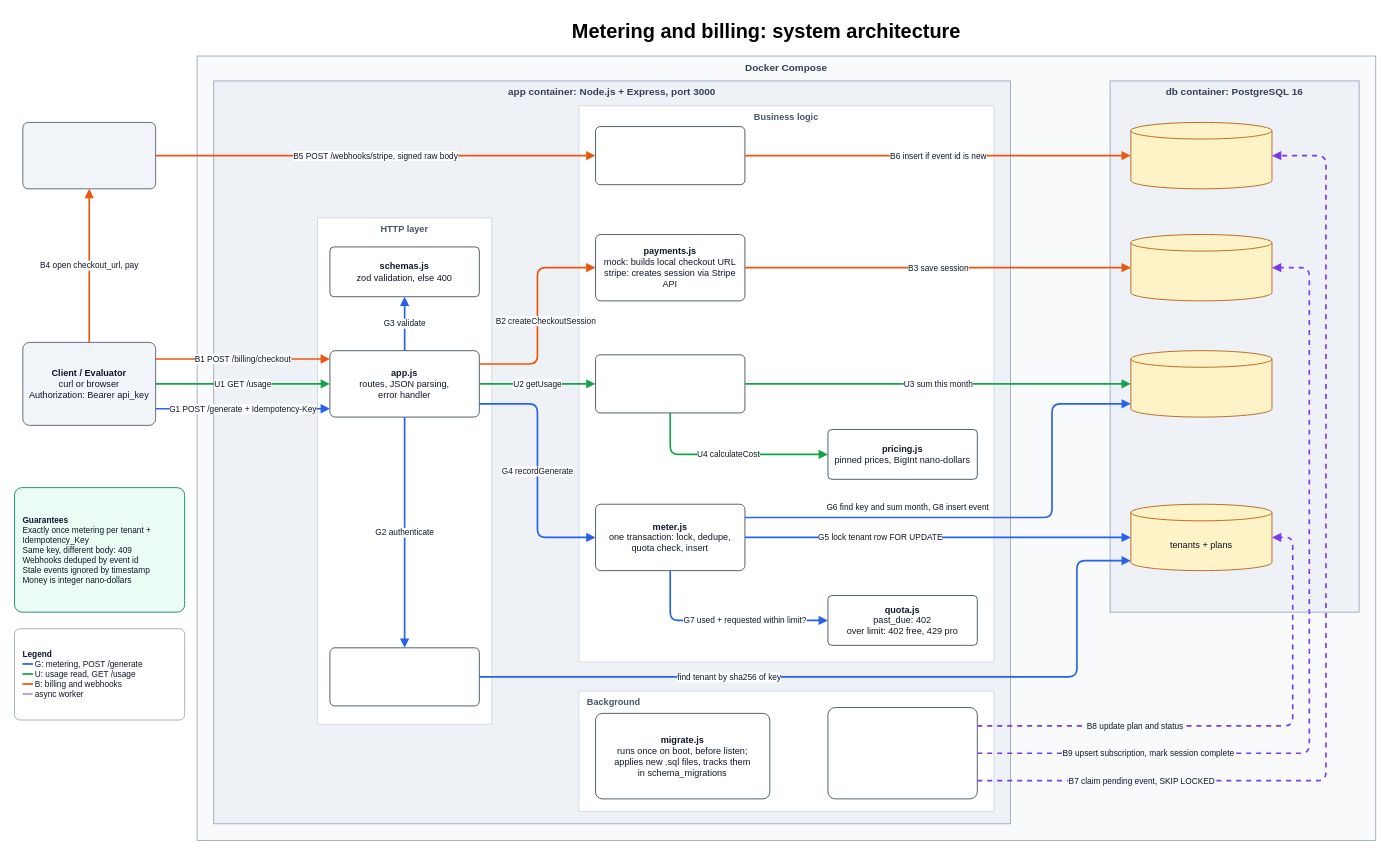
This 1390x855 diagram has some shape labels left out. Here are the shapes that lost their labels. From the top down, the centre of each, then its label:
the point at 89,155: Payment provider Stripe test mode, or mock checkout page (default)
the point at 670,155: webhooks.js verify signature on raw body, queue event as pending
the point at 1201,155: webhook_events
the point at 1201,267: checkout_sessions subscriptions
the point at 670,383: usage.js monthly rollup, invoice total
the point at 1201,383: usage_events
the point at 404,676: auth.js API key hash to tenant, else 401
the point at 902,753: worker.js polls every 1s, retries with backoff, ALERT after 5 failures
